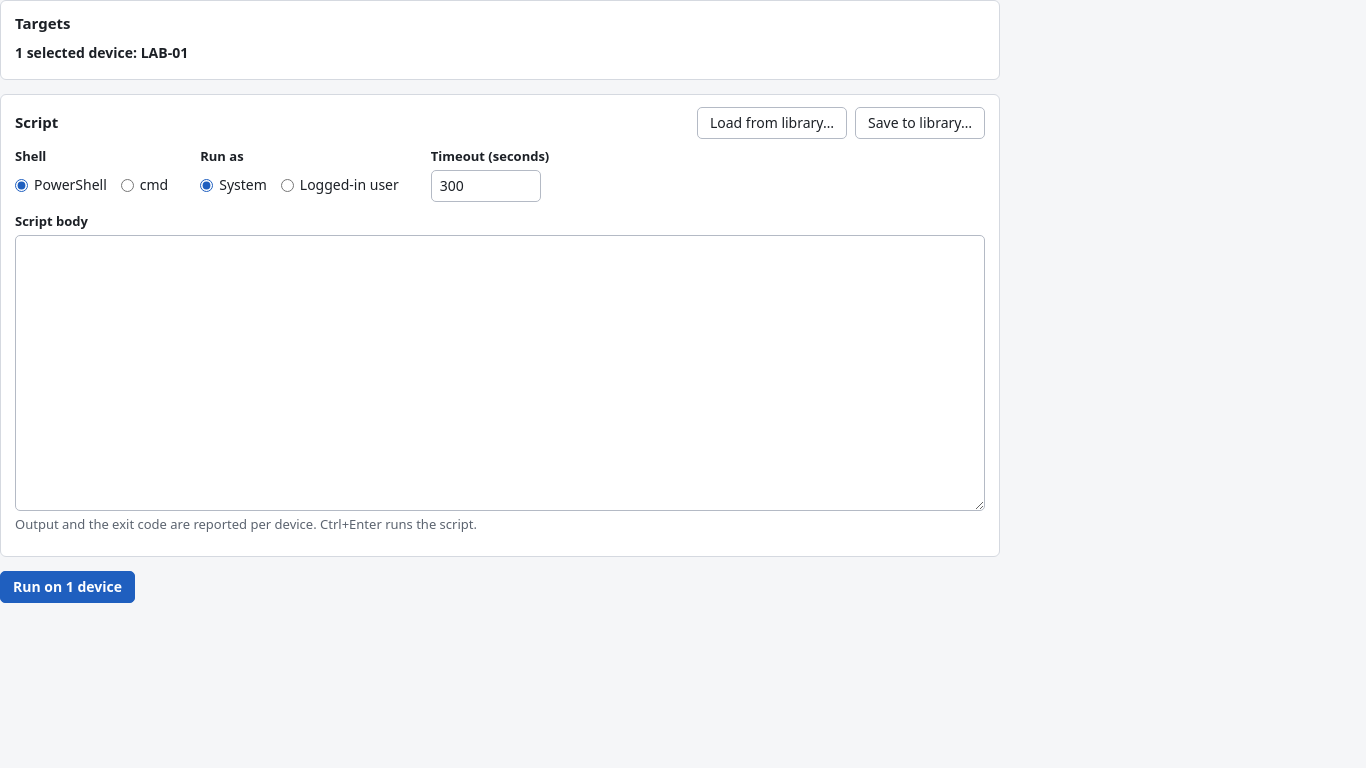
Scenario: Load from library › lists the library with shell and built-in badge, and fills the form from the chosen script
Type "something typed before" into the text box labelled "Script body" at (500, 373), box [15,235,985,511]
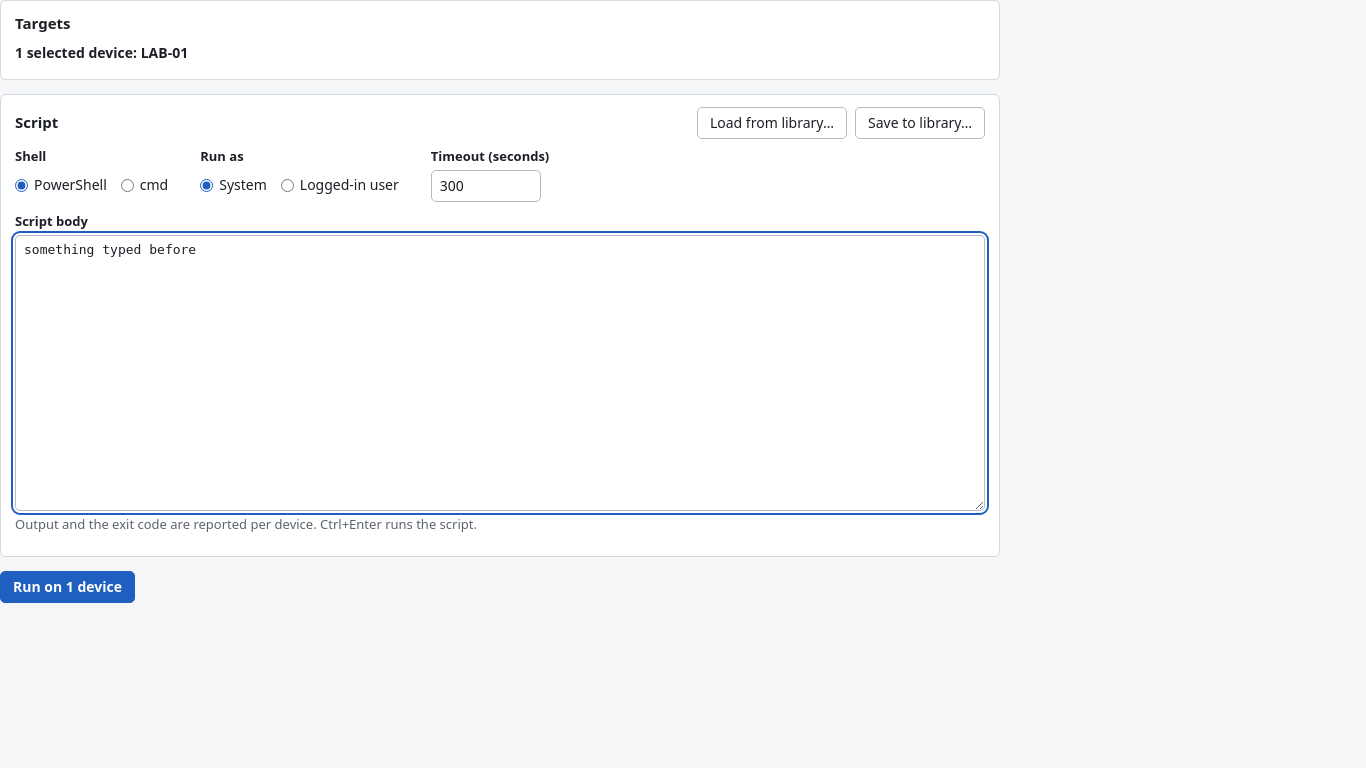
Click the button "Load from library…" at (772, 123), box [697,107,847,139]
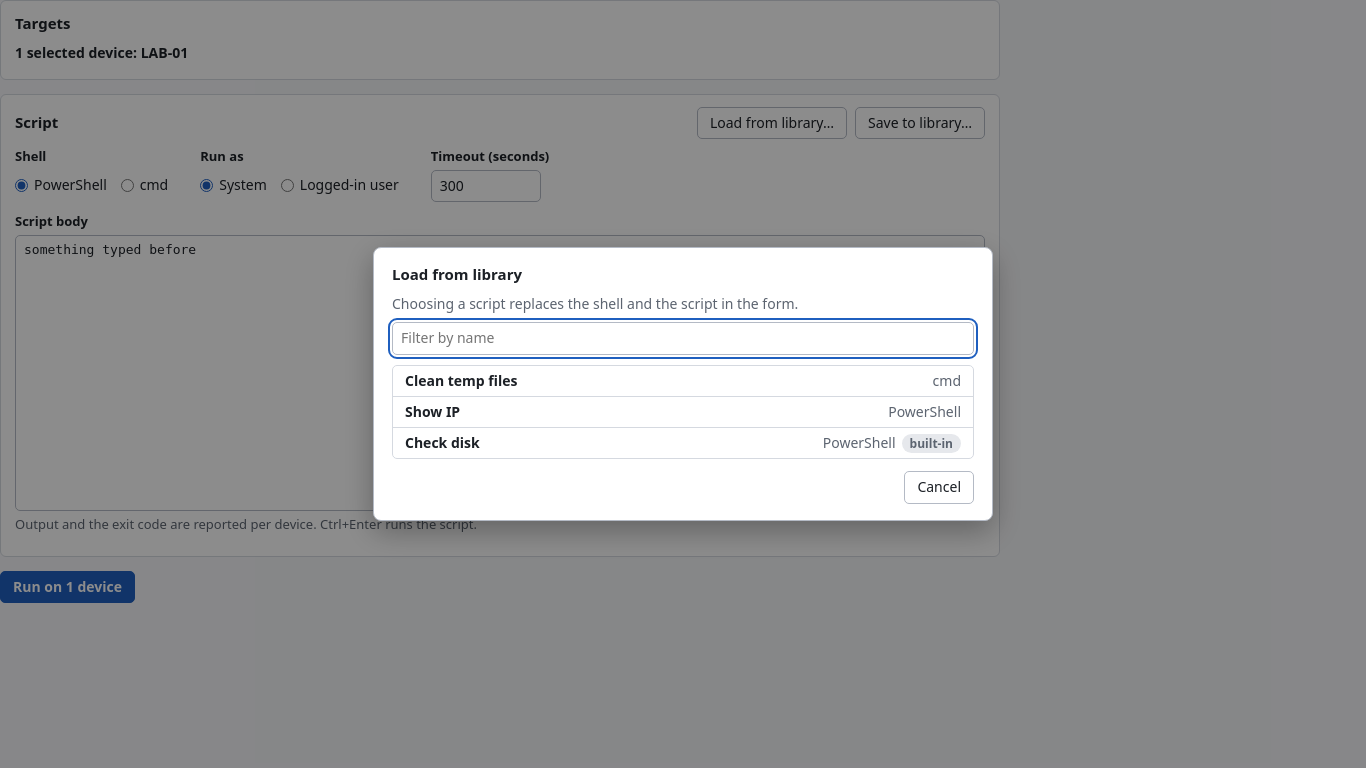
Click the button "Clean temp files cmd" at (461, 380), box [393,366,973,396]
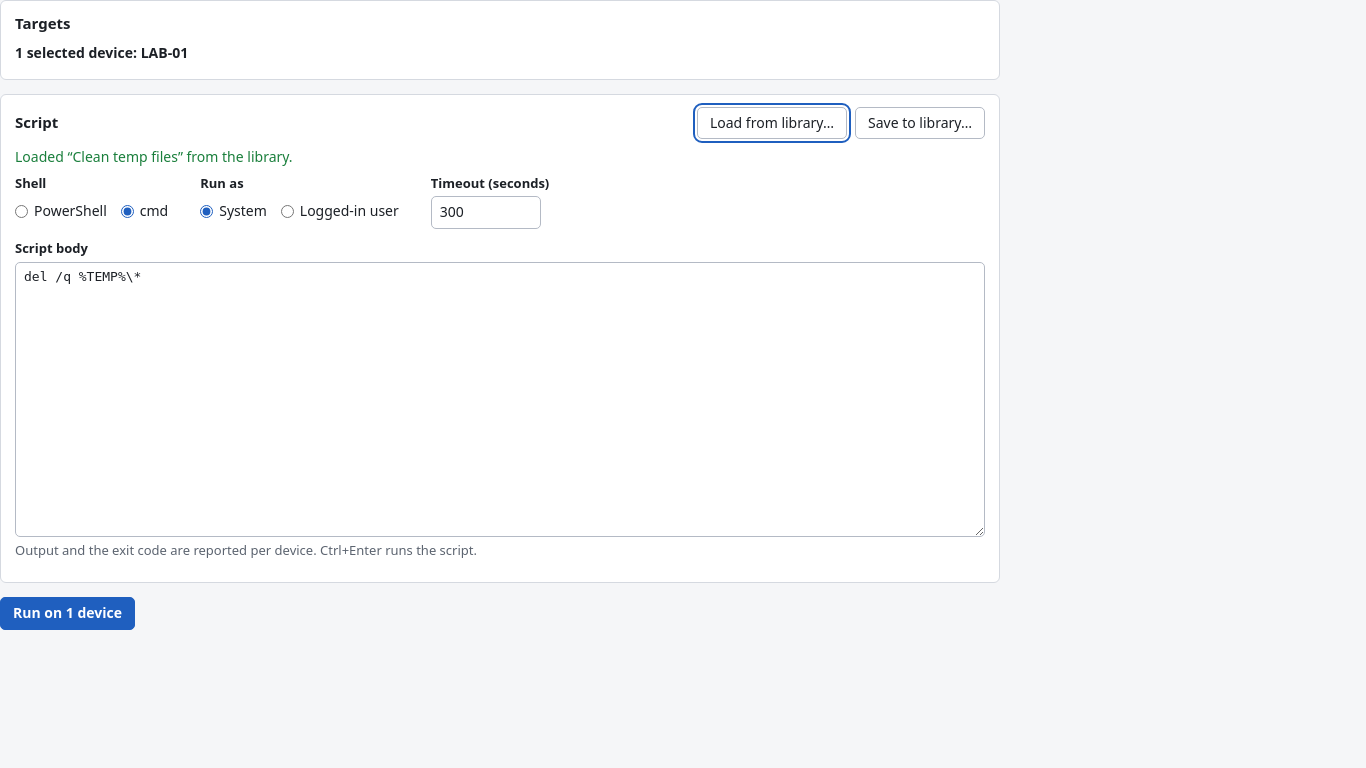
Check: the dialog is gone
Check: the text box labelled "Script body" holds "del /q %TEMP%\\*", box [15,262,985,537]
Check: the radio button labelled "cmd" is checked, box [121,205,134,218]
